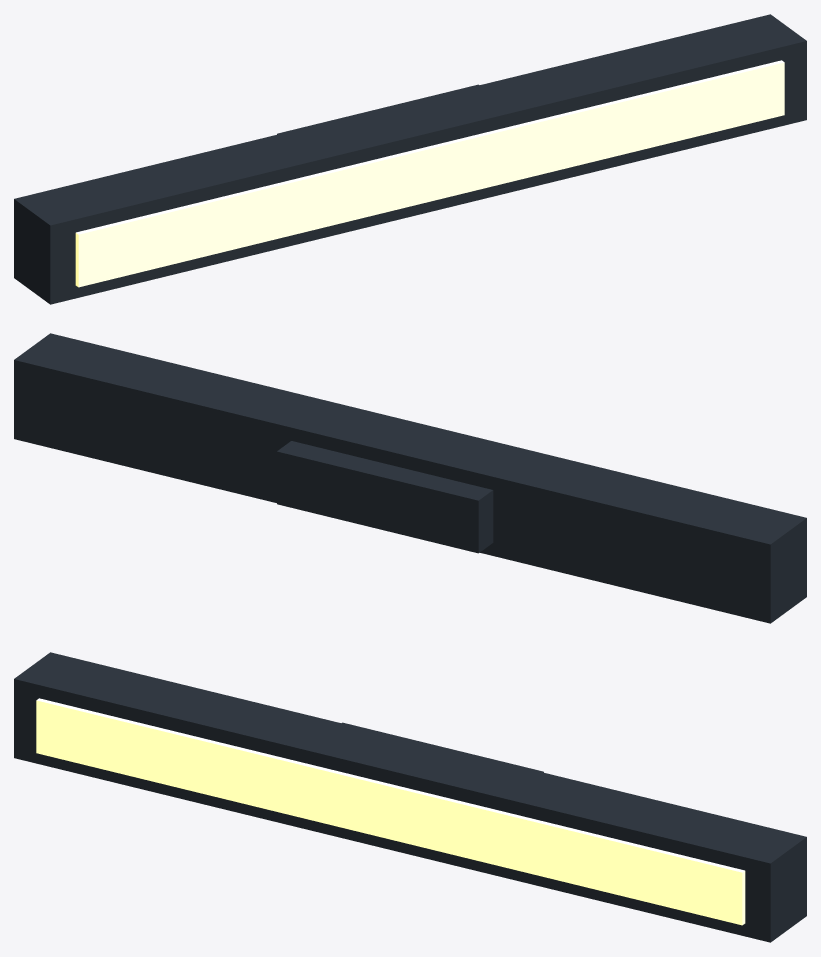
The model's file is 16_linear_wall.glb.
The picture shows the model from 3 angles, top to bottom: view 1: azimuth 30°, elevation 25°; view 2: azimuth 150°, elevation 25°; view 3: azimuth 330°, elevation 25°; orthographic projection.
Bounding box in the file's own units: 0.6 × 0.06 × 0.074.
